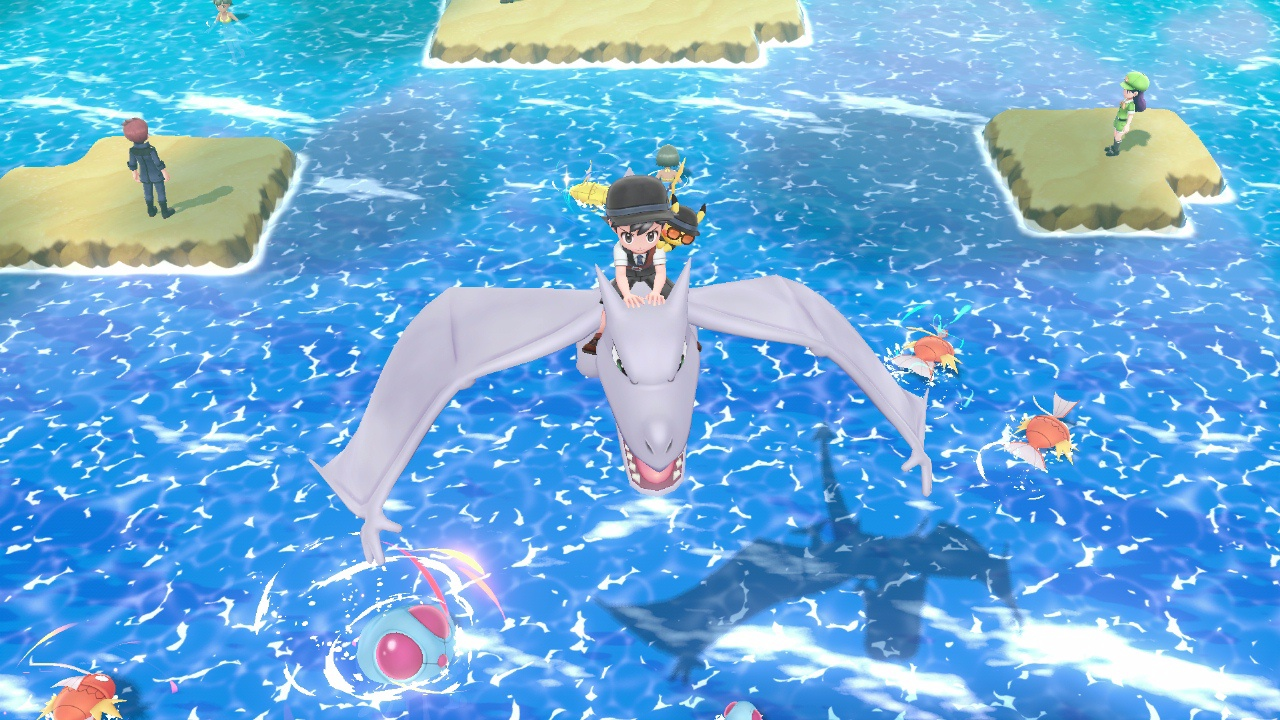Golden: (568, 177, 613, 209)
